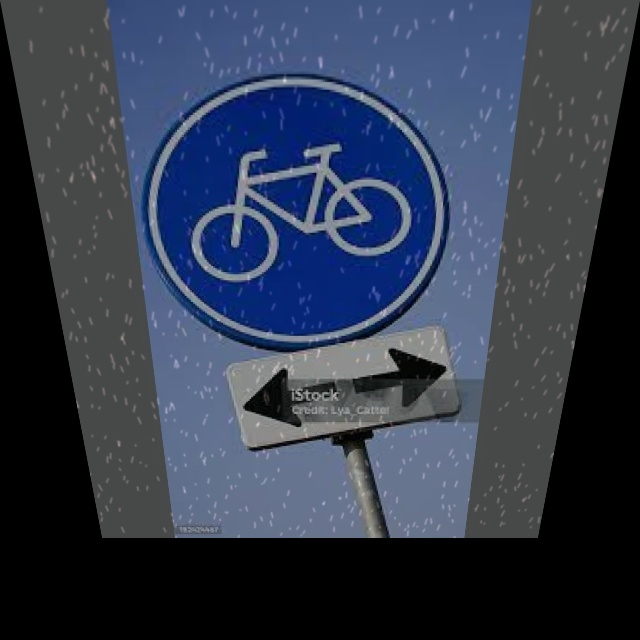Compulsory_Cycle_Track: (132, 74, 467, 321)
